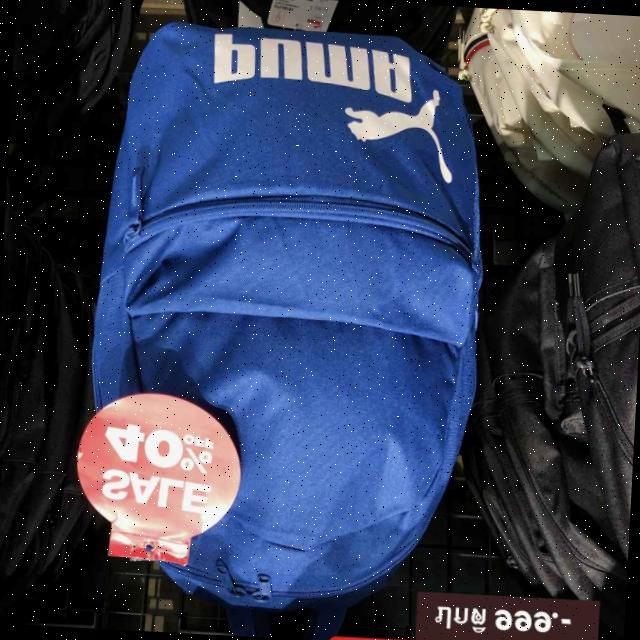Handbag: (32, 0, 545, 640)
